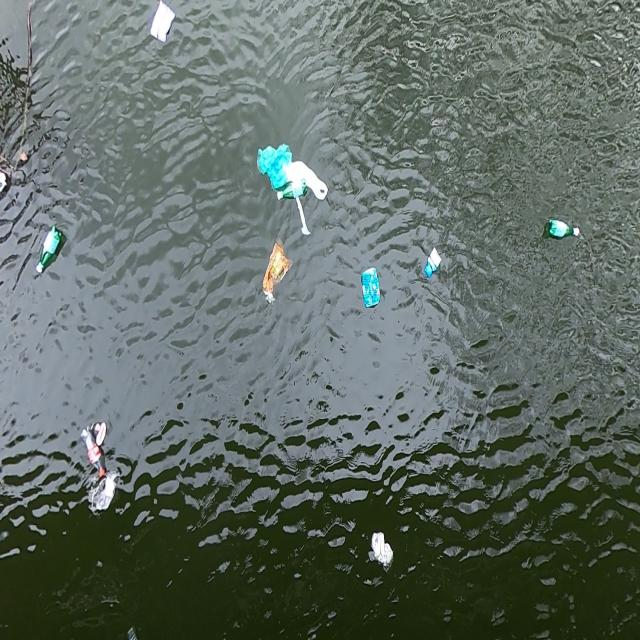Bouteille plastique: (33, 223, 66, 279), (76, 420, 106, 481), (539, 216, 584, 243), (271, 179, 306, 202)
Non plastique: (356, 263, 386, 313), (146, 0, 177, 47), (423, 247, 445, 282)
Sac plastique: (260, 239, 293, 314), (253, 133, 291, 184), (83, 472, 121, 518)
